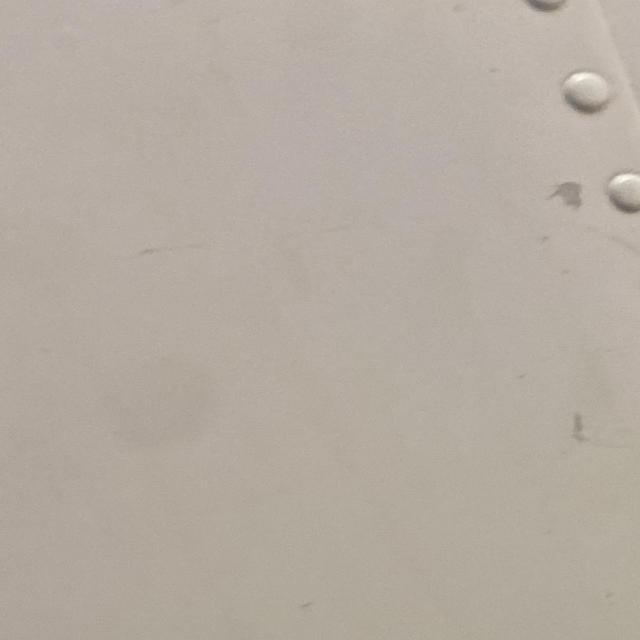Paint-off: (548, 178, 580, 205)
